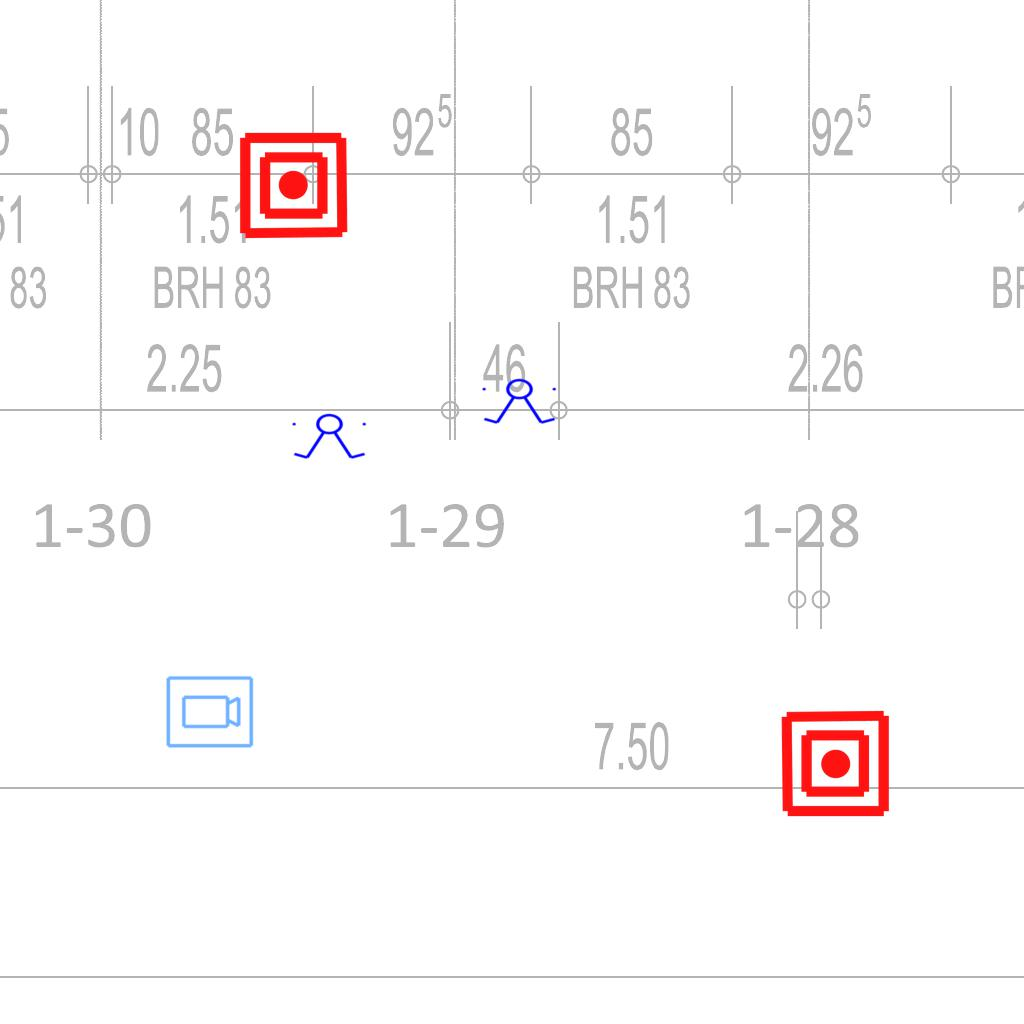KFO_Kamera_mit_Festobjektiv: (164, 674, 255, 751)
NAM-Nichtautomatischer_Melder: (779, 707, 892, 820), (237, 129, 350, 242)
Serienschalter: (288, 413, 372, 461), (478, 378, 562, 426)
